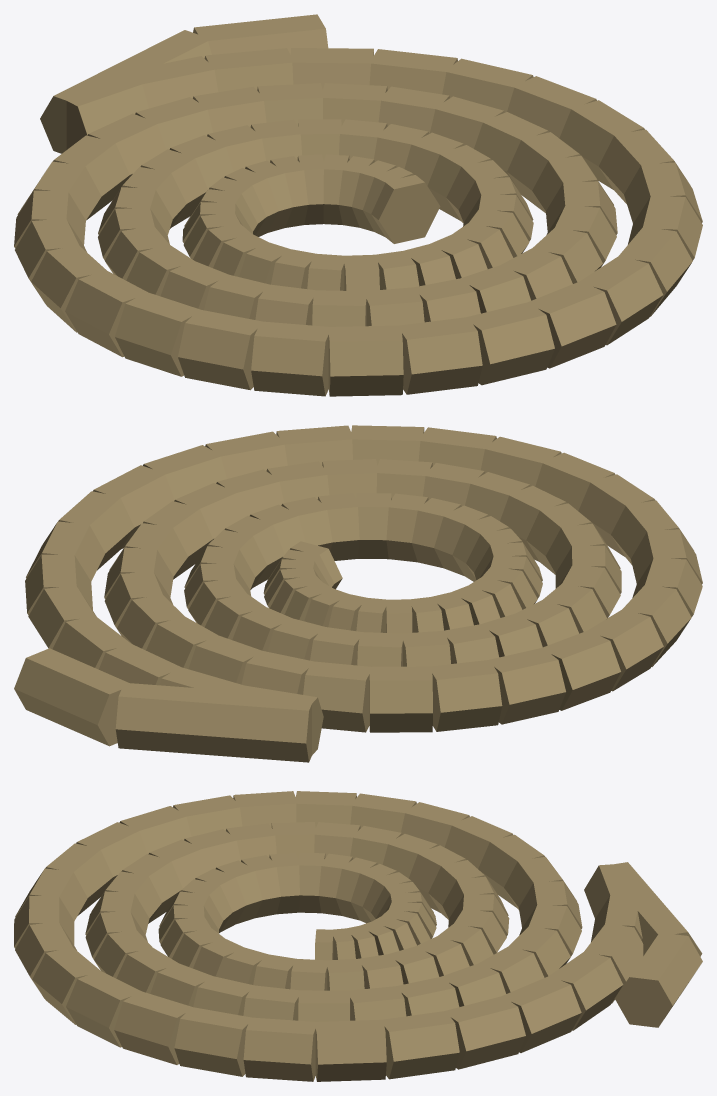
File: rope-coil.glb
3 renders of one model, top to bottom at view 1: azimuth 30°, elevation 25°; view 2: azimuth 150°, elevation 25°; view 3: azimuth 270°, elevation 25°, orthographic. The views are drawn at different scales.
Parts seen in each view (by area): view 1: rope-coil__body; view 2: rope-coil__body; view 3: rope-coil__body.
Boxes of the visible parts, x1,y1,x2,y2 form: rope-coil__body: (14, 14, 702, 396); rope-coil__body: (14, 425, 702, 762); rope-coil__body: (14, 791, 702, 1081).
Bounding box in the file's own units: 0.4026 × 0.0346 × 0.4573.
